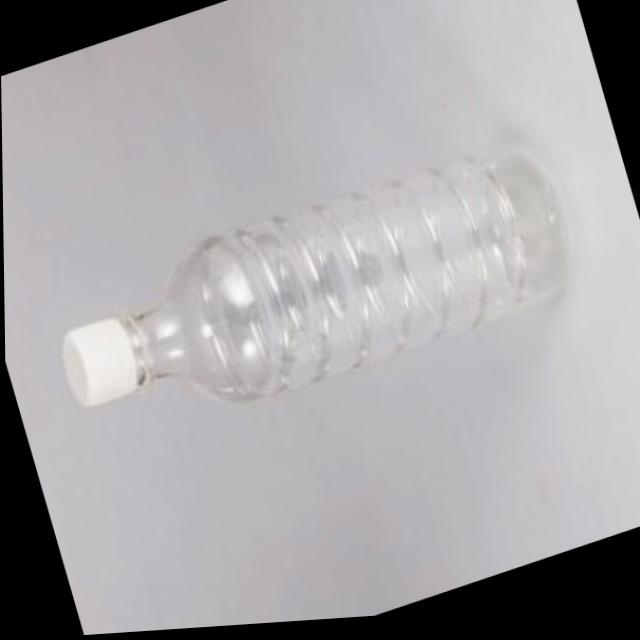anorganik: (36, 116, 603, 457)
